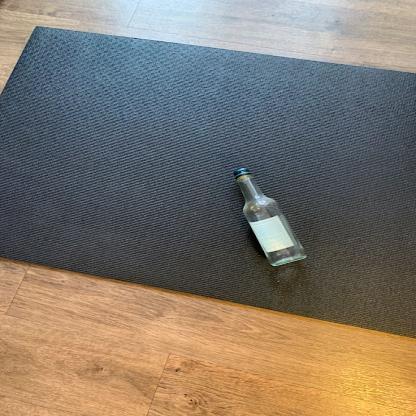trash: (233, 167, 308, 267)
